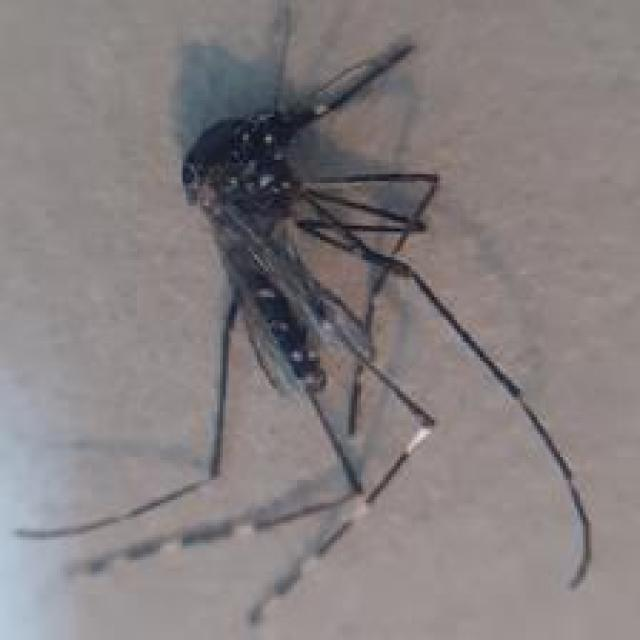Aedes albopictus: (13, 0, 593, 626)
